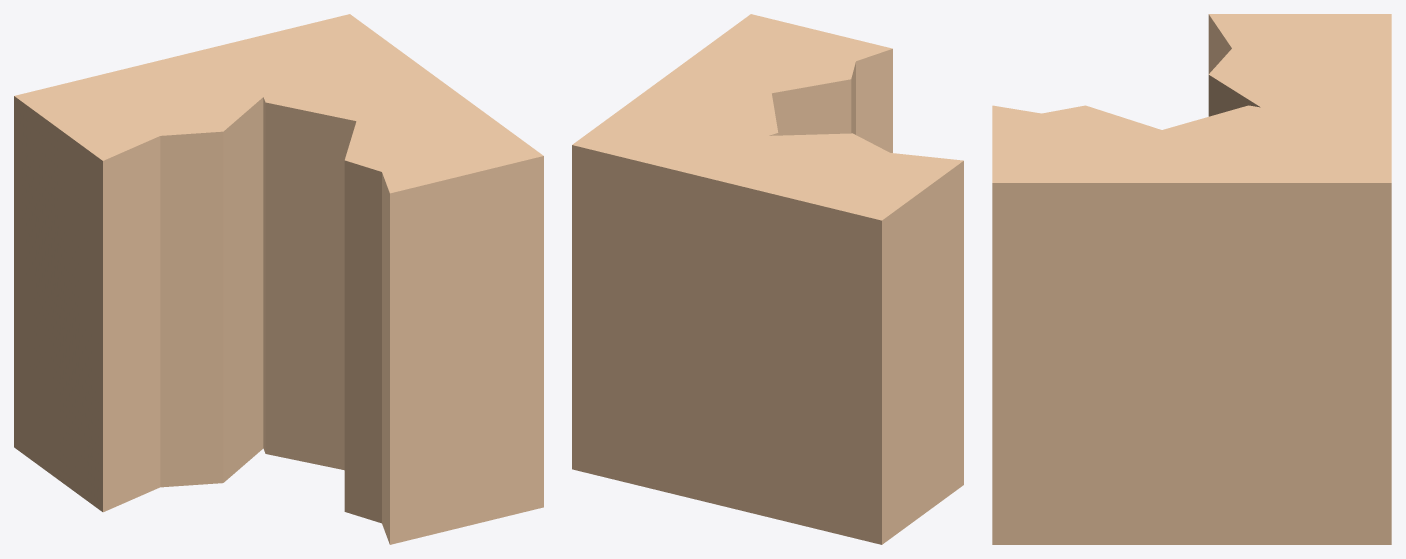
The model's file is cliffBrown_cornerInnerMid.glb.
3 renders of one model, left to right at view 1: azimuth 30°, elevation 25°; view 2: azimuth 150°, elevation 25°; view 3: azimuth 270°, elevation 25°, orthographic. The views are drawn at different scales.
Parts seen in each view (by area): view 1: cliffBrown_cornerInnerMid; view 2: cliffBrown_cornerInnerMid; view 3: cliffBrown_cornerInnerMid.
Part boxes in pixels (bbox=[...]): cliffBrown_cornerInnerMid: bbox=[14, 14, 543, 544]; cliffBrown_cornerInnerMid: bbox=[572, 14, 963, 544]; cliffBrown_cornerInnerMid: bbox=[992, 14, 1391, 544].
Bounding box in the file's own units: 1 × 1 × 1.
